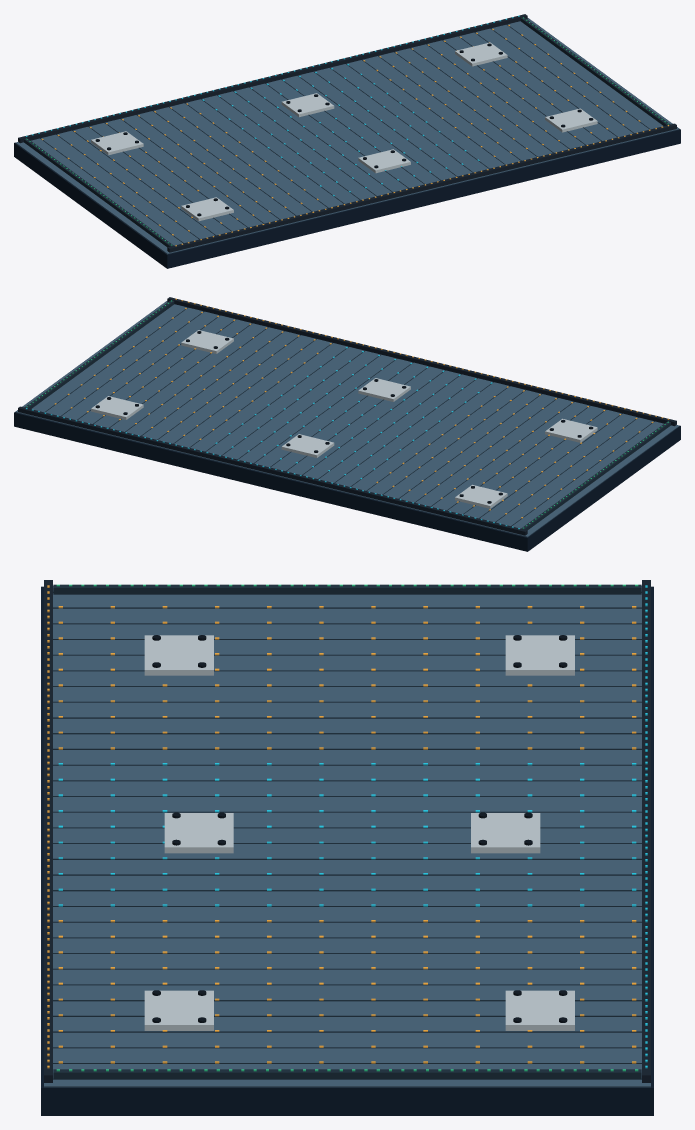
Rendered from 00_L81_IndustrialReliabilityArenaBase.fbx.
3 views of the same model, one above another, from view 1: azimuth 30°, elevation 25°; view 2: azimuth 150°, elevation 25°; view 3: azimuth 270°, elevation 25° (orthographic). The views are drawn at different scales.
Parts seen in each view (by area): view 1: IndustrialReliabilityArenaBase; view 2: IndustrialReliabilityArenaBase; view 3: IndustrialReliabilityArenaBase.
Boxes of the visible parts, left/top/right/bottom form: IndustrialReliabilityArenaBase: left=14, top=14, right=680, bottom=268; IndustrialReliabilityArenaBase: left=14, top=297, right=680, bottom=551; IndustrialReliabilityArenaBase: left=41, top=580, right=653, bottom=1115.
Size of the model in its own units: 2400 by 87 by 1240.
